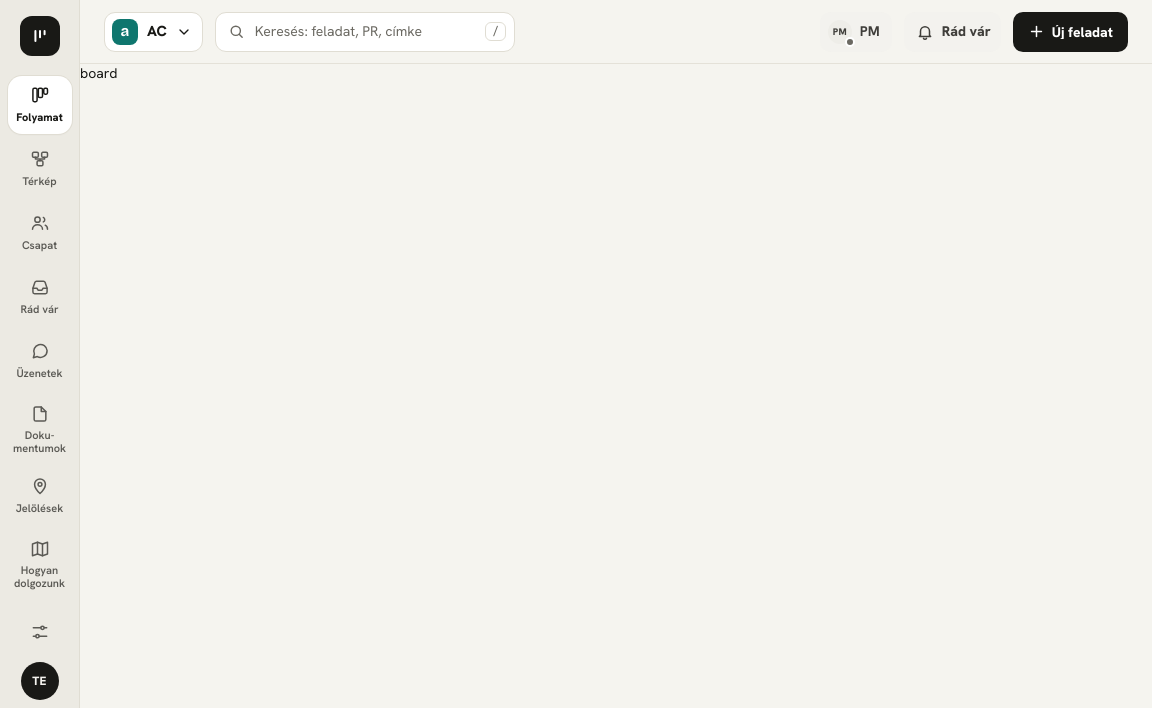
Test case: "Hogyan dolgozunk" in the navigation › gives a admin the rail item, and the item leads to the page
This screenshot has width=1152, height=708.
Click the link "Hogyan dolgozunk": (40, 565) [14,539,65,590]
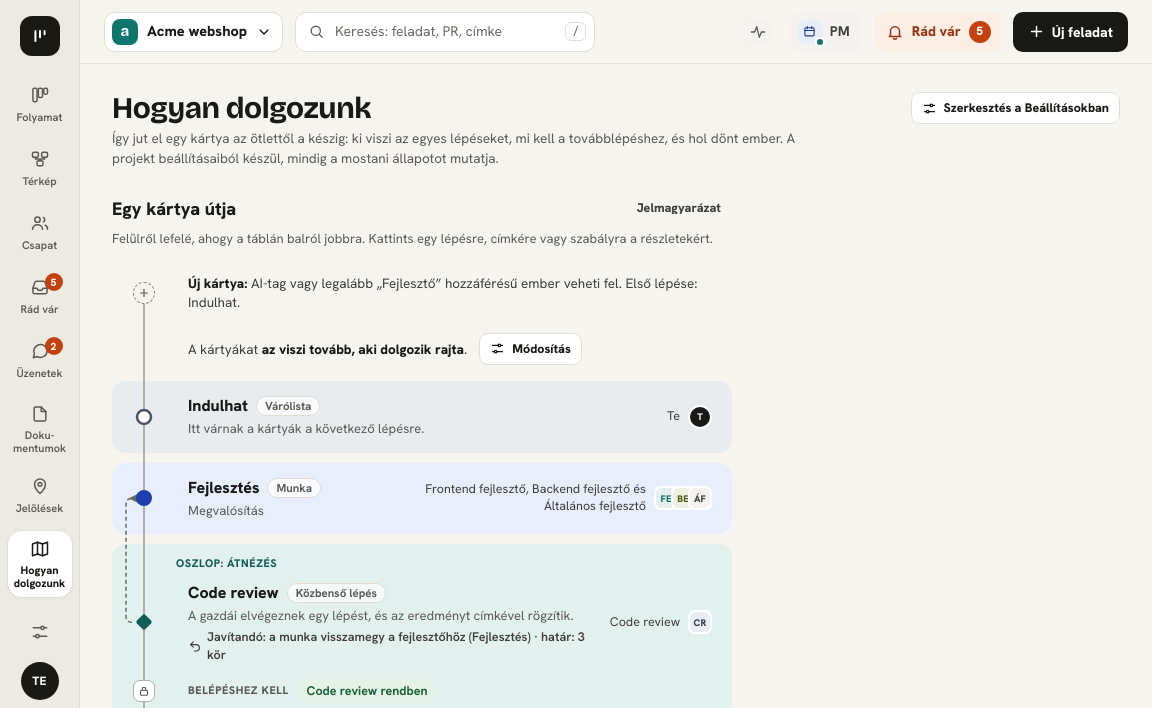
Check: the heading "Hogyan dolgozunk" is shown, box [112,90,371,126]
